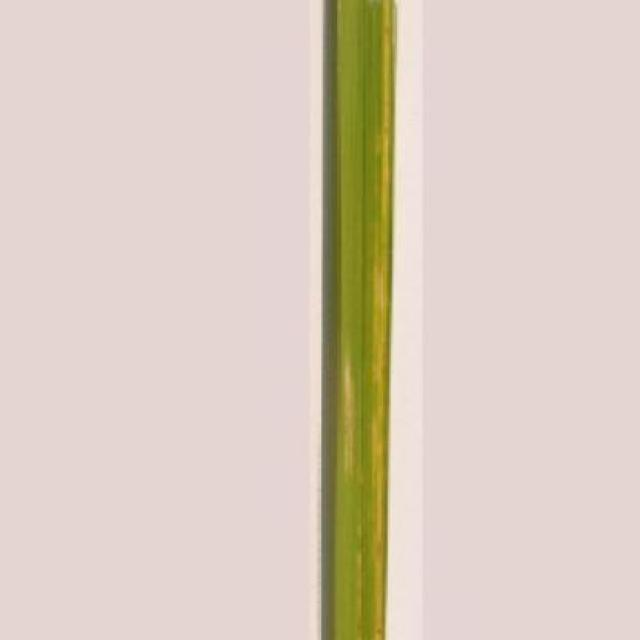Brown_Spot: (320, 0, 398, 640)
